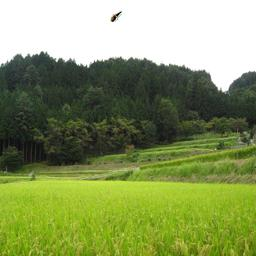Swallow: (110, 11, 122, 22)
